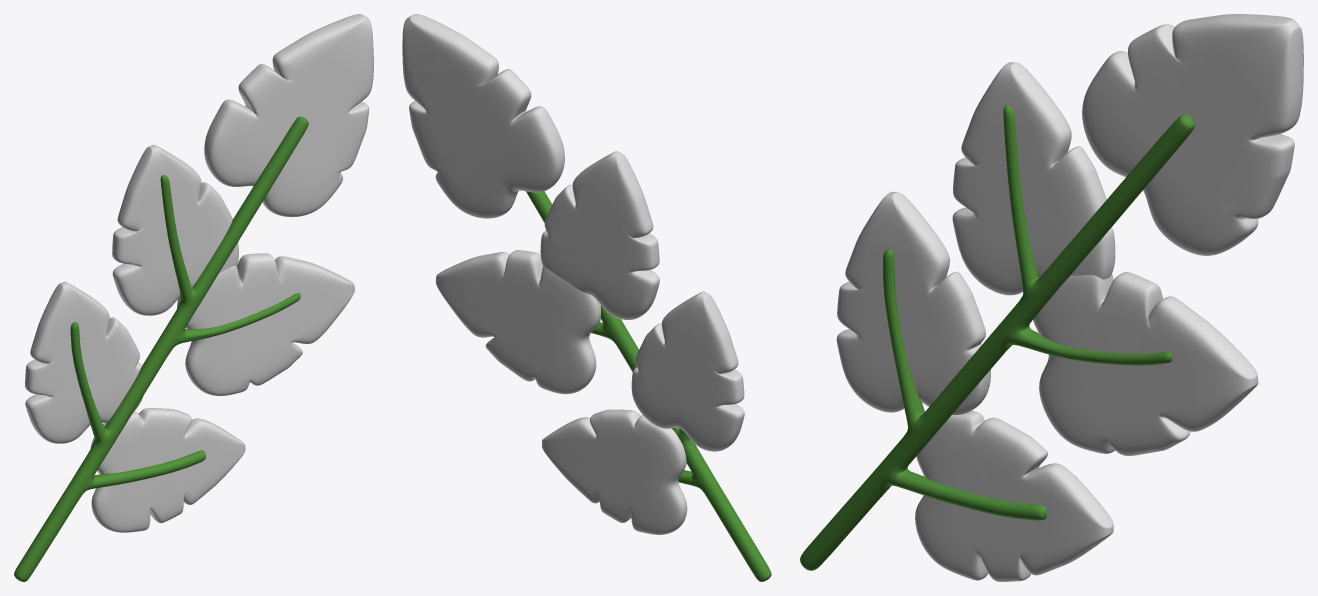
File: samambaia.glb
The picture shows the model from 3 angles, left to right: view 1: azimuth 30°, elevation 25°; view 2: azimuth 150°, elevation 25°; view 3: azimuth 330°, elevation 25°; orthographic projection. The views are drawn at different scales.
Visible parts, largest first — view 1: Plane.055_assada, Cube.001; view 2: Plane.055_assada, Cube.001; view 3: Plane.055_assada, Cube.001.
Boxes of the visible parts, left/top/right/bottom form: Plane.055_assada: left=25, top=14, right=373, bottom=532; Cube.001: left=14, top=116, right=308, bottom=581; Plane.055_assada: left=402, top=14, right=744, bottom=534; Cube.001: left=526, top=191, right=771, bottom=581; Plane.055_assada: left=836, top=14, right=1303, bottom=581; Cube.001: left=800, top=105, right=1195, bottom=570.
Size of the model in its own units: 5.13 by 6.55 by 0.5823.
